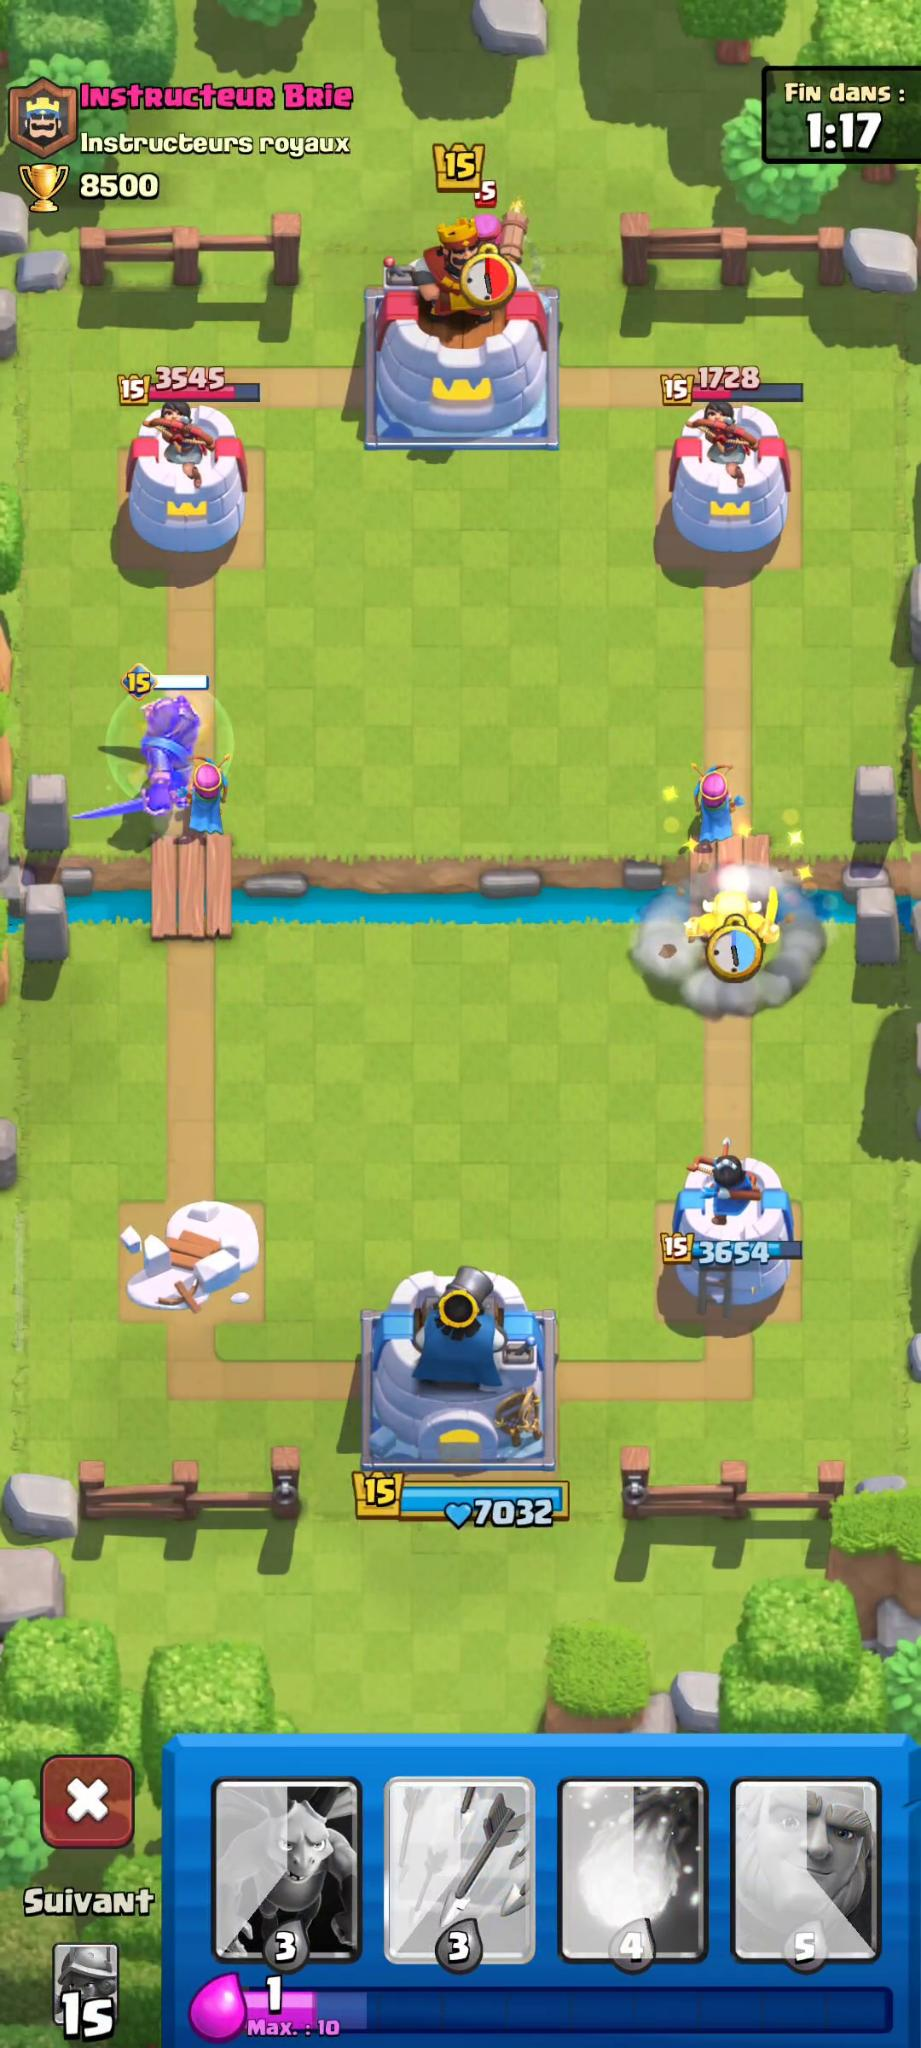archere: (690, 765, 741, 862), (186, 759, 229, 837)
chevalier: (74, 662, 210, 833)
